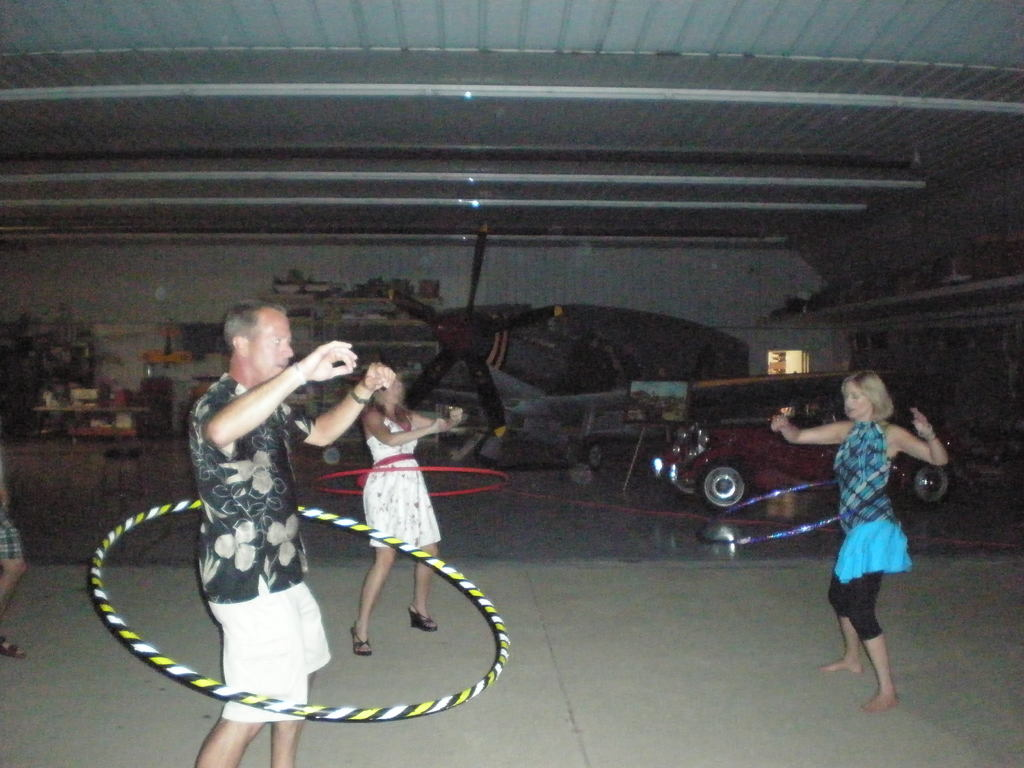cars: (654, 397, 964, 516)
